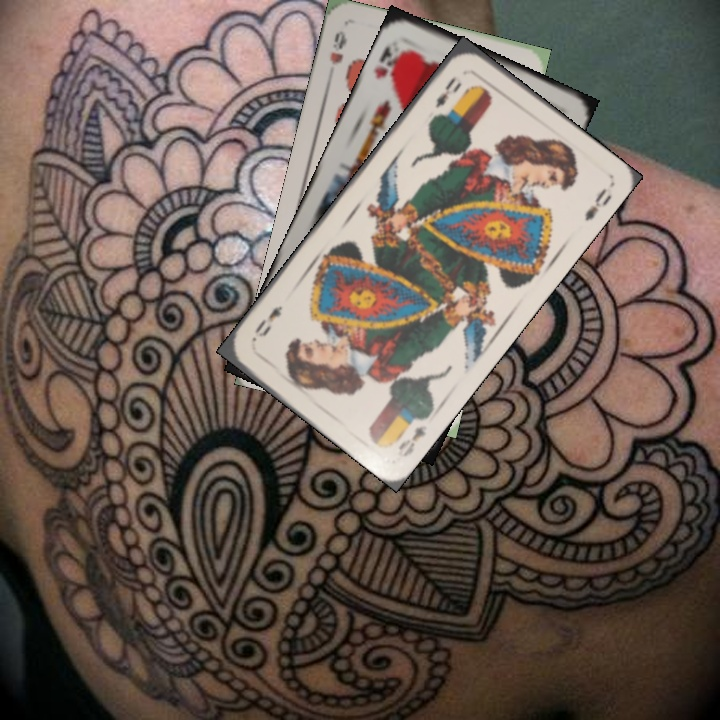EO: (393, 420, 430, 460), (431, 71, 465, 111)
H9: (325, 26, 350, 68)
HK: (370, 41, 408, 87)
